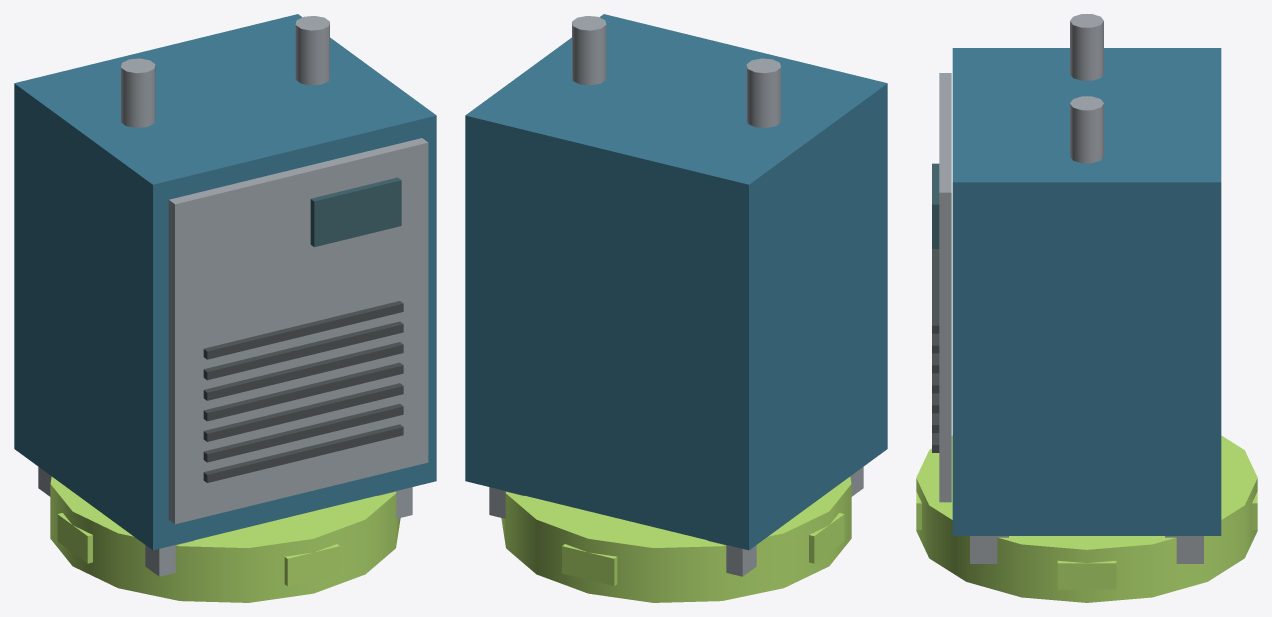
3 views of the same model, side by side, from view 1: azimuth 30°, elevation 25°; view 2: azimuth 150°, elevation 25°; view 3: azimuth 270°, elevation 25° (orthographic). The views are drawn at different scales.
Visible parts, largest first — view 1: cabinet, front, visualRotor, screen, vent0, vent3, vent4, vent1, vent2, vent5, vent6, port0 (+2 smaller); view 2: cabinet, visualRotor, port0, port1, foot0; view 3: cabinet, visualRotor, front, port1, port0, foot2, foot3, screen, vent6.
Boxes of the visible parts, left/top/right/bottom form: cabinet: left=14, top=14, right=436, bottom=550; front: left=168, top=138, right=428, bottom=524; visualRotor: left=50, top=476, right=400, bottom=602; screen: left=310, top=177, right=401, bottom=247; vent0: left=203, top=424, right=403, bottom=482; vent3: left=203, top=362, right=403, bottom=421; vent4: left=203, top=342, right=403, bottom=400; vent1: left=203, top=403, right=403, bottom=462; vent2: left=203, top=383, right=403, bottom=441; vent5: left=203, top=321, right=403, bottom=380; vent6: left=203, top=301, right=403, bottom=359; port0: left=121, top=58, right=155, bottom=127; cabinet: left=465, top=14, right=887, bottom=550; visualRotor: left=501, top=476, right=851, bottom=602; port0: left=746, top=58, right=780, bottom=127; port1: left=572, top=16, right=606, bottom=85; foot0: left=707, top=540, right=756, bottom=576; cabinet: left=952, top=48, right=1221, bottom=535; visualRotor: left=916, top=435, right=1257, bottom=602; front: left=939, top=73, right=951, bottom=502; port1: left=1070, top=96, right=1103, bottom=163; port0: left=1070, top=14, right=1103, bottom=80; foot2: left=1165, top=536, right=1203, bottom=563; foot3: left=970, top=536, right=1008, bottom=563; screen: left=932, top=163, right=939, bottom=248; vent6: left=932, top=249, right=939, bottom=333.
Size of the model in its own units: 0.7 by 1.06 by 0.7.
